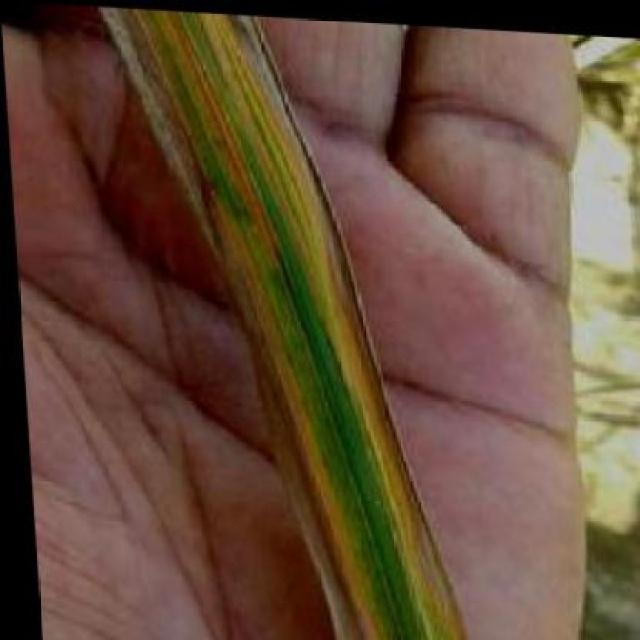Brown_Spot: (85, 11, 448, 640)
